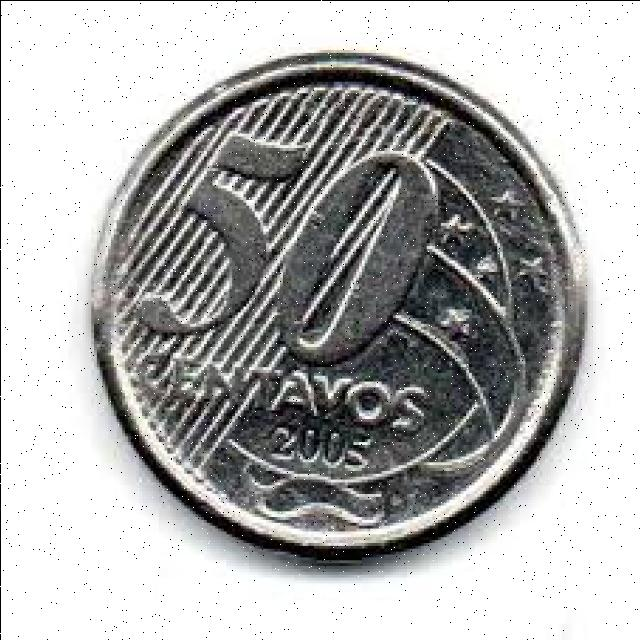50 cent: (86, 54, 591, 572)
